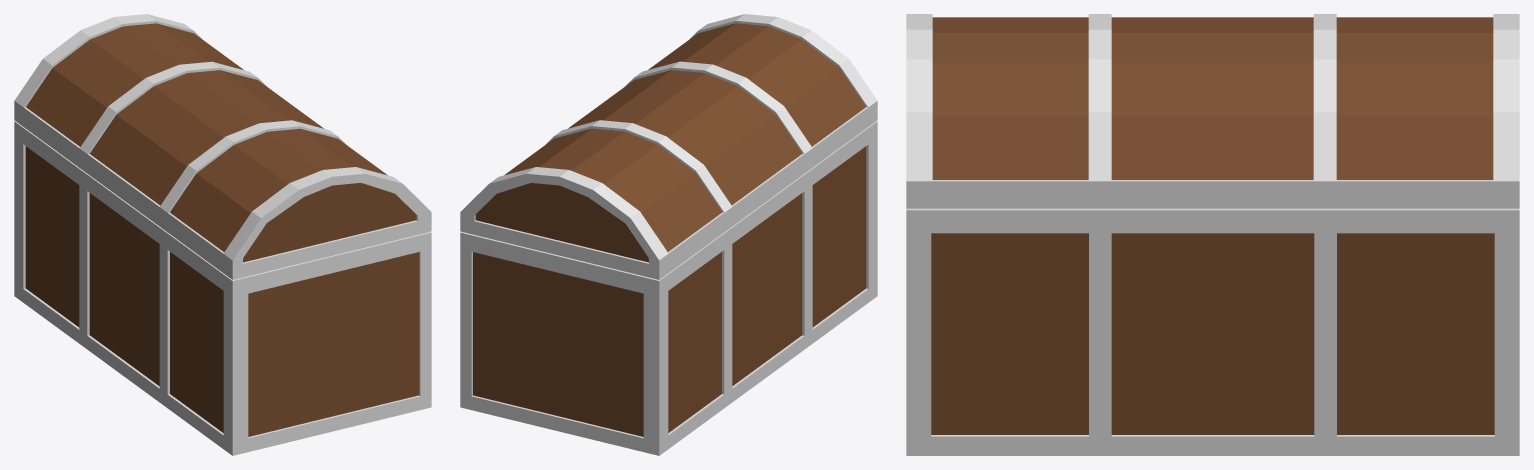
The picture shows the model from 3 angles, left to right: view 1: azimuth 30°, elevation 25°; view 2: azimuth 150°, elevation 25°; view 3: azimuth 270°, elevation 25°; orthographic projection. The views are drawn at different scales.
Parts seen in each view (by area): view 1: Cube, Cube.001; view 2: Cube, Cube.001; view 3: Cube, Cube.001.
Part boxes in pixels (<box>): Cube: <box>14,121,431,455</box>; Cube.001: <box>14,14,431,279</box>; Cube: <box>460,121,877,455</box>; Cube.001: <box>460,14,877,279</box>; Cube: <box>906,208,1519,455</box>; Cube.001: <box>906,14,1519,208</box>.
Size of the model in its own units: 254 by 311 by 483.
